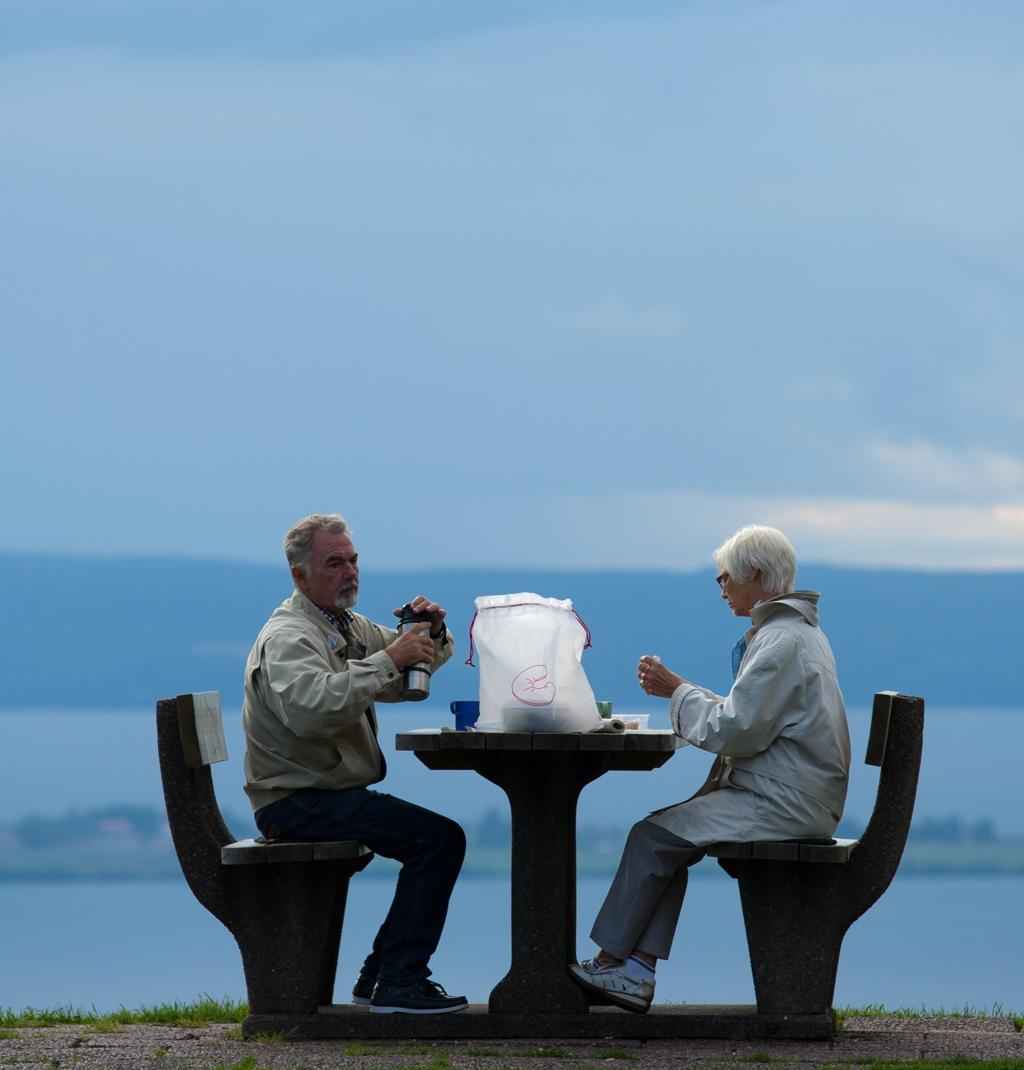face: (310, 527, 358, 607), (716, 561, 748, 616)
